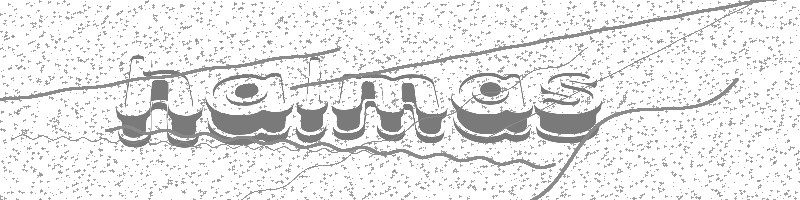a: (204, 66, 293, 147), (447, 68, 535, 145)
h: (113, 50, 204, 152)
l: (294, 52, 328, 145)
m: (331, 70, 449, 143)
s: (535, 67, 601, 144)
